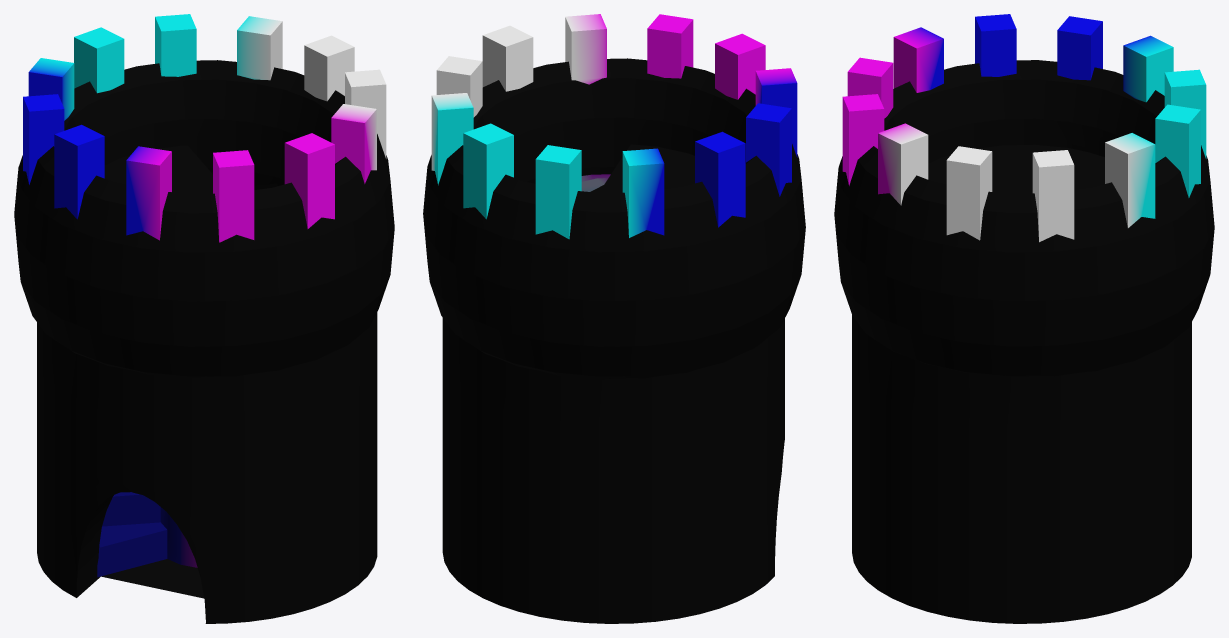
Rendered from tower.fbx.
The picture shows the model from 3 angles, left to right: view 1: azimuth 30°, elevation 25°; view 2: azimuth 150°, elevation 25°; view 3: azimuth 270°, elevation 25°; orthographic projection.
Parts seen in each view (by area): view 1: Cylinder056; view 2: Cylinder056; view 3: Cylinder056.
Part boxes in pixels (x1,y1,x2,y2): Cylinder056: (14,14,394,623); Cylinder056: (423,14,805,623); Cylinder056: (834,14,1214,623).
Size of the model in its own units: 67.84 by 90.63 by 67.84.
